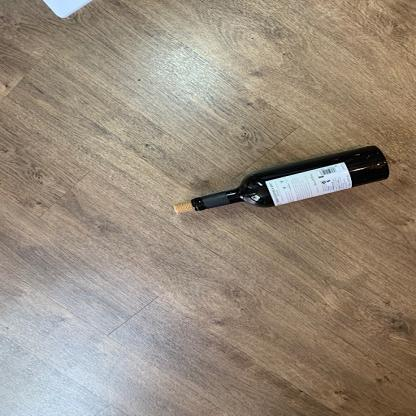trash: (191, 146, 392, 225)
